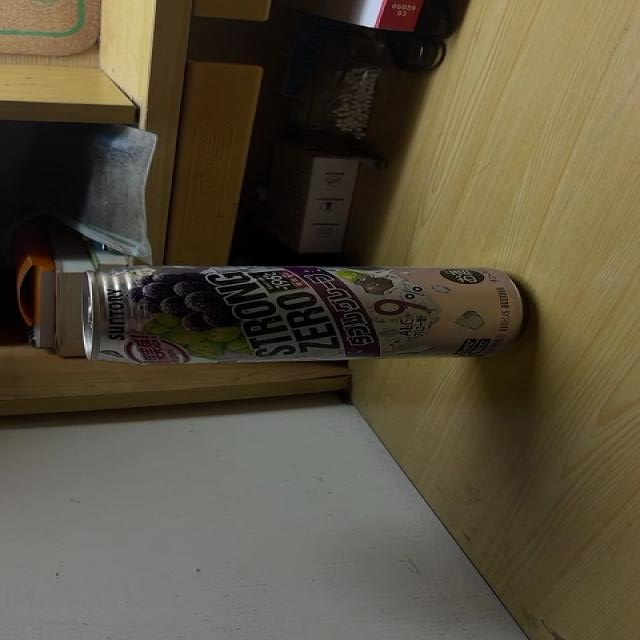Liquor: (80, 264, 527, 364)
